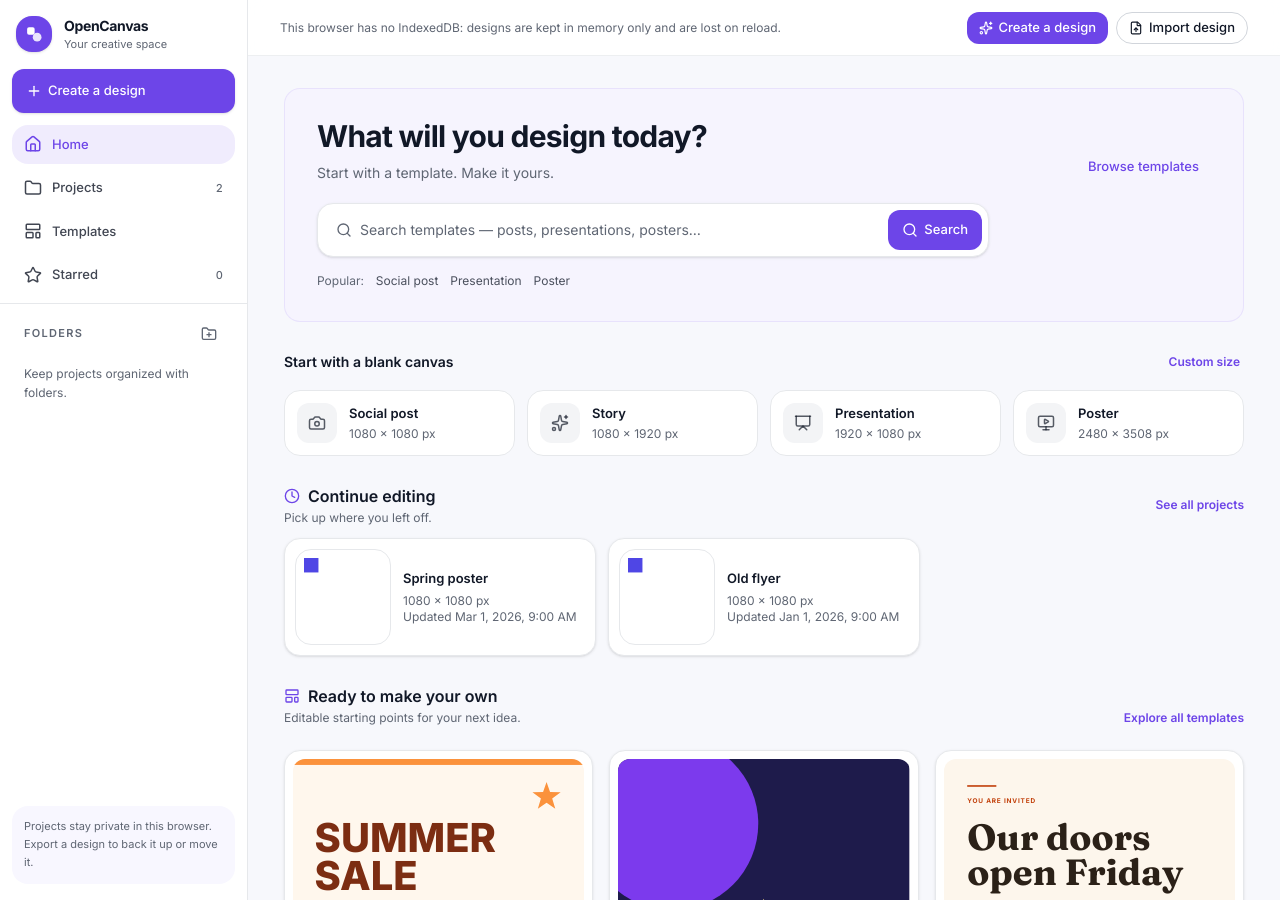
it: Dashboard › lists saved designs newest first with their contents and timestamp
This screenshot has width=1280, height=900.
Click the button "Projects 2": (124, 188) [12,168,235,208]
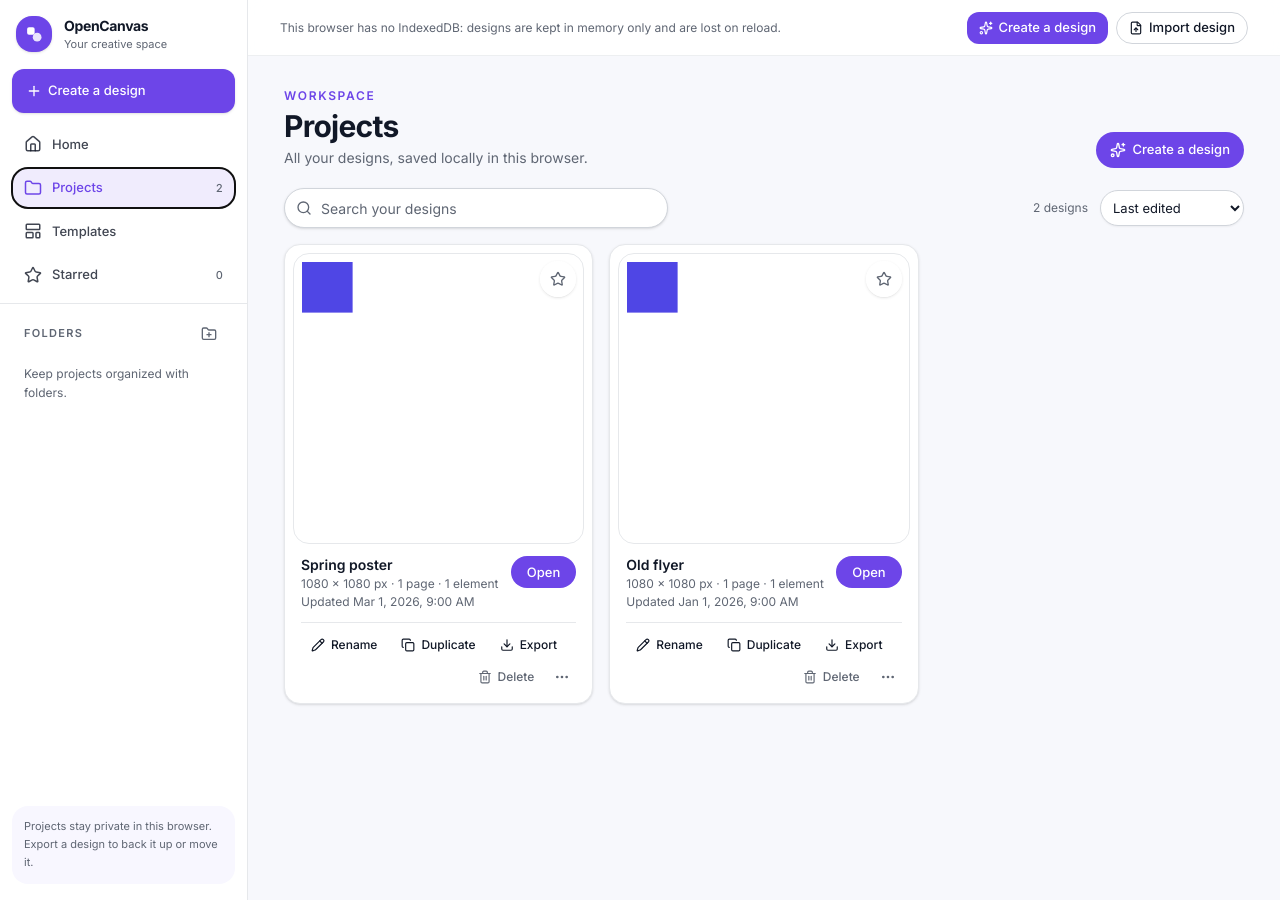
Expected: the heading "Spring poster" is shown, [301,556,393,573]
Now the number of list items is 2, box [284,244,593,704]; [609,244,919,704]
Now the text "1080 × 1080 px · 1 page · 1 element" below "Spring poster" is shown, box [301,576,503,592]
